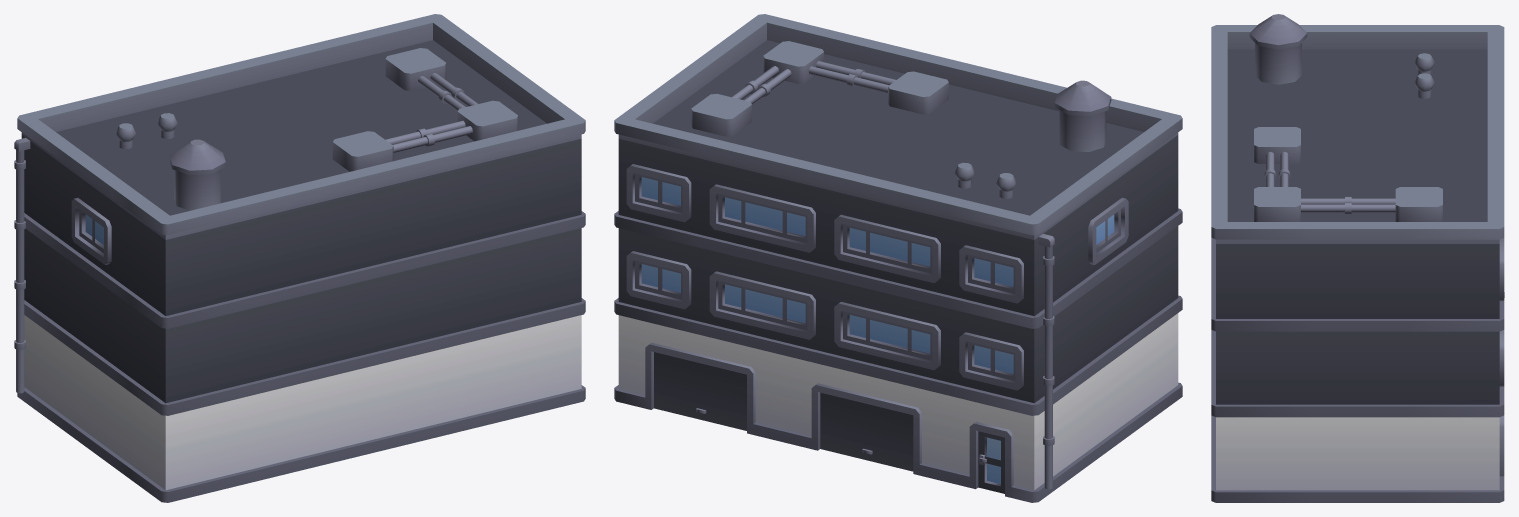
The model's file is k-city-kit-industrial-building-a.glb.
3 renders of one model, left to right at view 1: azimuth 30°, elevation 25°; view 2: azimuth 150°, elevation 25°; view 3: azimuth 270°, elevation 25°, orthographic.
Visible parts, largest first — view 1: building-a; view 2: building-a; view 3: building-a.
Boxes of the visible parts, x1,y1,x2,y2 form: building-a: (14,14,585,502); building-a: (614,14,1182,502); building-a: (1211,14,1504,502).
Bounding box in the file's own units: 2.08 × 1.47 × 1.24.
1 material, 1 textured.
